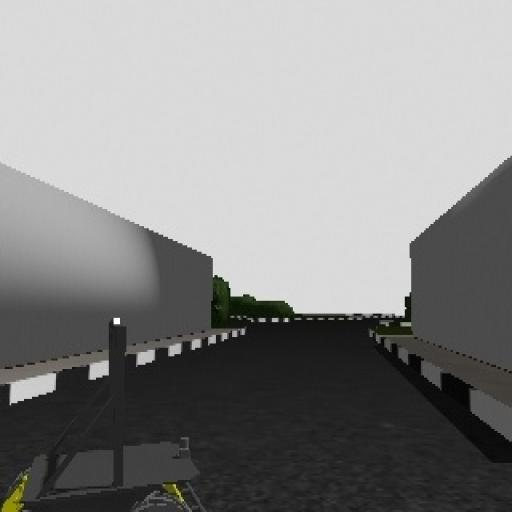huskya200: (4, 315, 206, 512)
